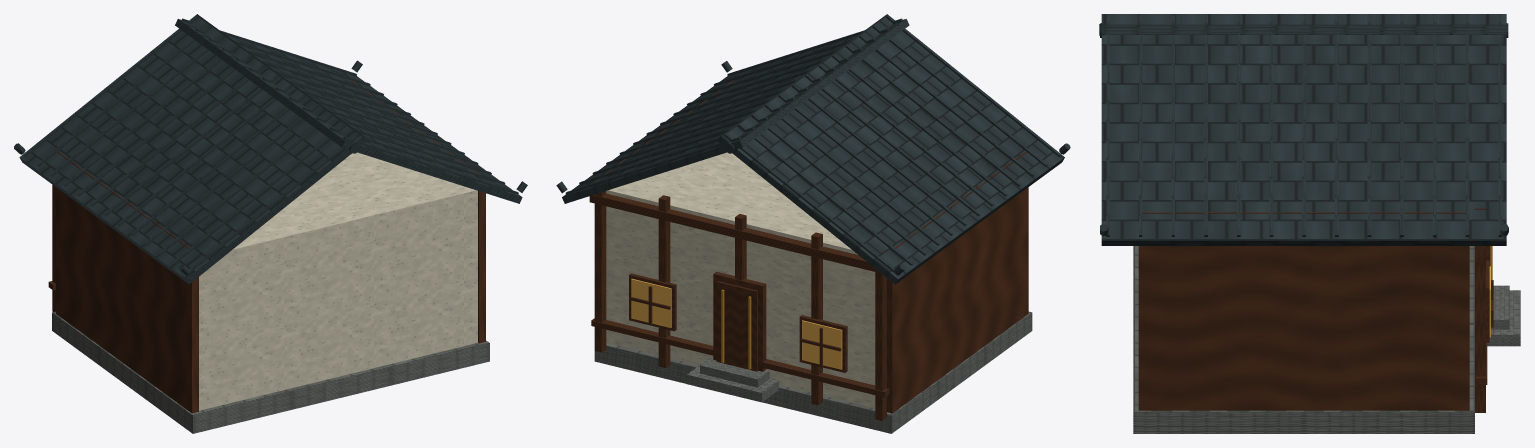
File: house_small_v4.obj
3 views of the same model, side by side, from view 1: azimuth 30°, elevation 25°; view 2: azimuth 150°, elevation 25°; view 3: azimuth 270°, elevation 25° (orthographic). The views are drawn at different scales.
Parts seen in each view (by area): view 1: house_small_v4; view 2: house_small_v4; view 3: house_small_v4.
Boxes of the visible parts, x1,y1,x2,y2 form: house_small_v4: (14, 14, 527, 433); house_small_v4: (556, 14, 1070, 433); house_small_v4: (1099, 14, 1520, 433).
Size of the model in its own units: 10.84 by 8.03 by 9.36.
9 materials, 7 textured.
